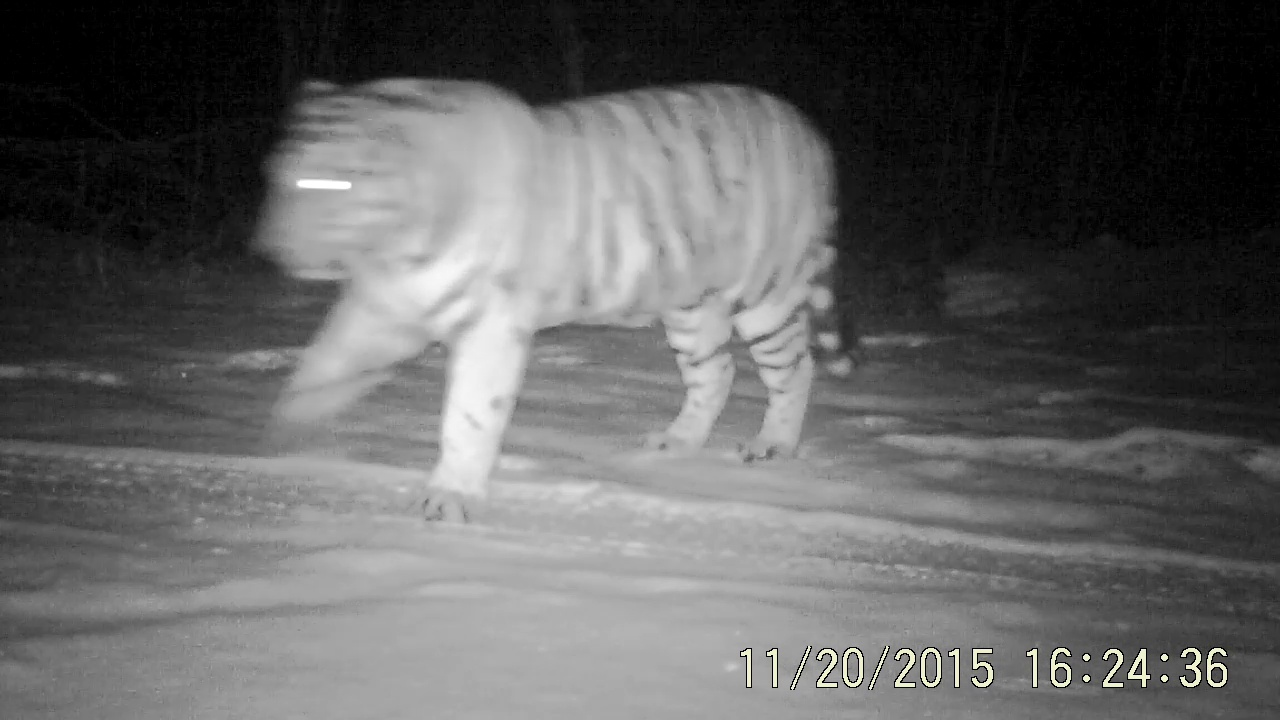Tiger: (199, 45, 962, 567)
